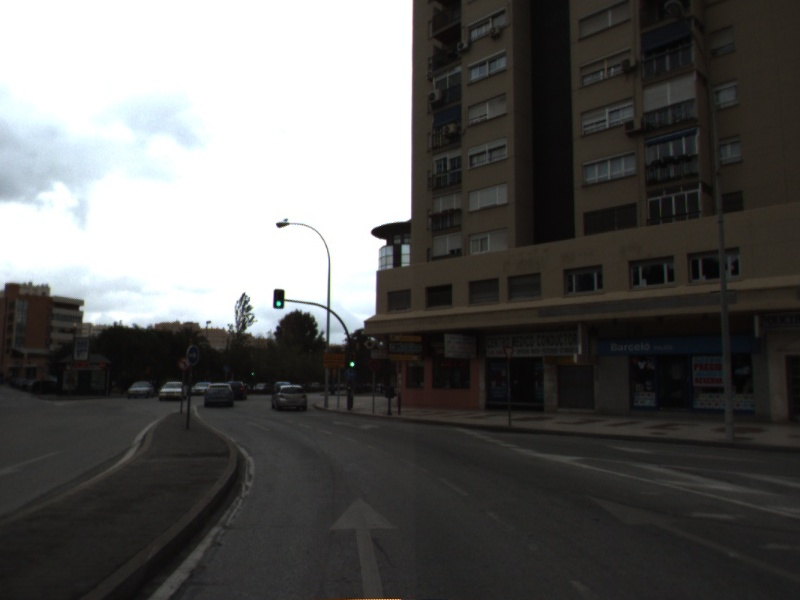STRAIGHT: (583, 490, 800, 583), (324, 491, 405, 600)
STRAIGHT_RIGHT: (329, 418, 383, 432)
